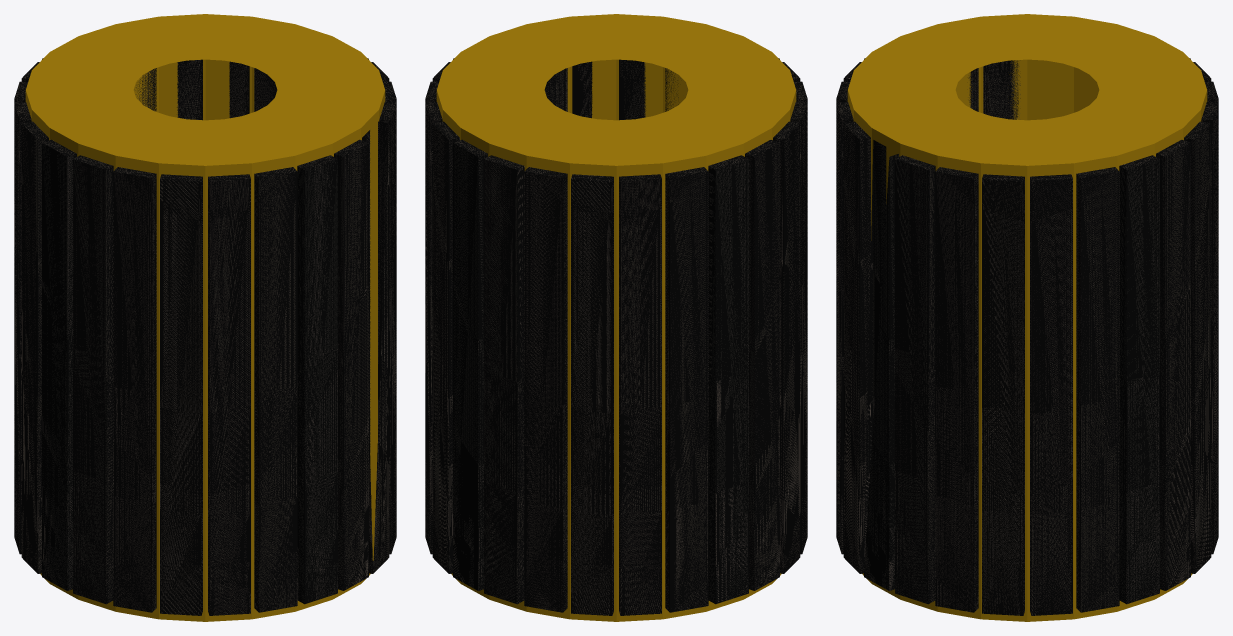
3 views of the same model, side by side, from view 1: azimuth 30°, elevation 25°; view 2: azimuth 150°, elevation 25°; view 3: azimuth 270°, elevation 25° (orthographic).
Visible parts, largest first — view 1: mesh25.002_mesh25-geometry, mesh15.002_mesh15-geometry, mesh6.002_mesh6-geometry, mesh22.002_mesh22-geometry, mesh16.002_mesh16-geometry, mesh17.002_mesh17-geometry, mesh5.002_mesh5-geometry, mesh21.002_mesh21-geometry, mesh4.002_mesh4-geometry, mesh14.002_mesh14-geometry, mesh11.002_mesh11-geometry, mesh7.002_mesh7-geometry (+5 smaller); view 2: mesh25.002_mesh25-geometry, mesh24.002_mesh24-geometry, mesh23.002_mesh23-geometry, mesh9.002_mesh9-geometry, mesh8.002_mesh8-geometry, mesh12.002_mesh12-geometry, mesh7.002_mesh7-geometry, mesh14.002_mesh14-geometry, mesh3.002_mesh3-geometry, mesh21.002_mesh21-geometry, mesh2.002_mesh2-geometry, mesh19.002_mesh19-geometry (+4 smaller); view 3: mesh25.002_mesh25-geometry, mesh18.002_mesh18-geometry, mesh10.002_mesh10-geometry, mesh20.002_mesh20-geometry, mesh13.002_mesh13-geometry, mesh19.002_mesh19-geometry, mesh1.002_mesh1-geometry, mesh2.002_mesh2-geometry, mesh11.002_mesh11-geometry, mesh4.002_mesh4-geometry, mesh3.002_mesh3-geometry, mesh17.002_mesh17-geometry (+2 smaller).
Boxes of the visible parts, x1,y1,x2,y2 form: mesh25.002_mesh25-geometry: (25, 14, 385, 621); mesh15.002_mesh15-geometry: (113, 167, 156, 612); mesh6.002_mesh6-geometry: (254, 167, 297, 612); mesh22.002_mesh22-geometry: (208, 174, 250, 615); mesh16.002_mesh16-geometry: (160, 174, 202, 615); mesh17.002_mesh17-geometry: (297, 155, 337, 604); mesh5.002_mesh5-geometry: (73, 155, 113, 604); mesh21.002_mesh21-geometry: (42, 139, 76, 590); mesh4.002_mesh4-geometry: (334, 139, 368, 590); mesh14.002_mesh14-geometry: (21, 121, 48, 573); mesh11.002_mesh11-geometry: (362, 121, 389, 573); mesh7.002_mesh7-geometry: (14, 102, 31, 554); mesh25.002_mesh25-geometry: (436, 14, 796, 621); mesh24.002_mesh24-geometry: (665, 167, 708, 612); mesh23.002_mesh23-geometry: (524, 167, 567, 612); mesh9.002_mesh9-geometry: (619, 174, 661, 615); mesh8.002_mesh8-geometry: (571, 174, 613, 615); mesh12.002_mesh12-geometry: (484, 155, 524, 604); mesh7.002_mesh7-geometry: (708, 155, 748, 604); mesh14.002_mesh14-geometry: (745, 139, 779, 590); mesh3.002_mesh3-geometry: (453, 139, 487, 590); mesh21.002_mesh21-geometry: (773, 121, 800, 573); mesh2.002_mesh2-geometry: (432, 121, 459, 573); mesh19.002_mesh19-geometry: (425, 102, 442, 554); mesh25.002_mesh25-geometry: (847, 14, 1207, 621); mesh18.002_mesh18-geometry: (1076, 167, 1119, 612); mesh10.002_mesh10-geometry: (935, 167, 978, 612); mesh20.002_mesh20-geometry: (982, 174, 1024, 615); mesh13.002_mesh13-geometry: (1030, 174, 1072, 615); mesh19.002_mesh19-geometry: (1119, 155, 1159, 604); mesh1.002_mesh1-geometry: (895, 155, 935, 604); mesh2.002_mesh2-geometry: (1156, 139, 1190, 590); mesh11.002_mesh11-geometry: (864, 140, 898, 590); mesh4.002_mesh4-geometry: (843, 121, 870, 573); mesh3.002_mesh3-geometry: (1184, 121, 1211, 573); mesh17.002_mesh17-geometry: (836, 102, 853, 554).
Size of the model in its own units: 0.5178 by 0.6811 by 0.5178.
